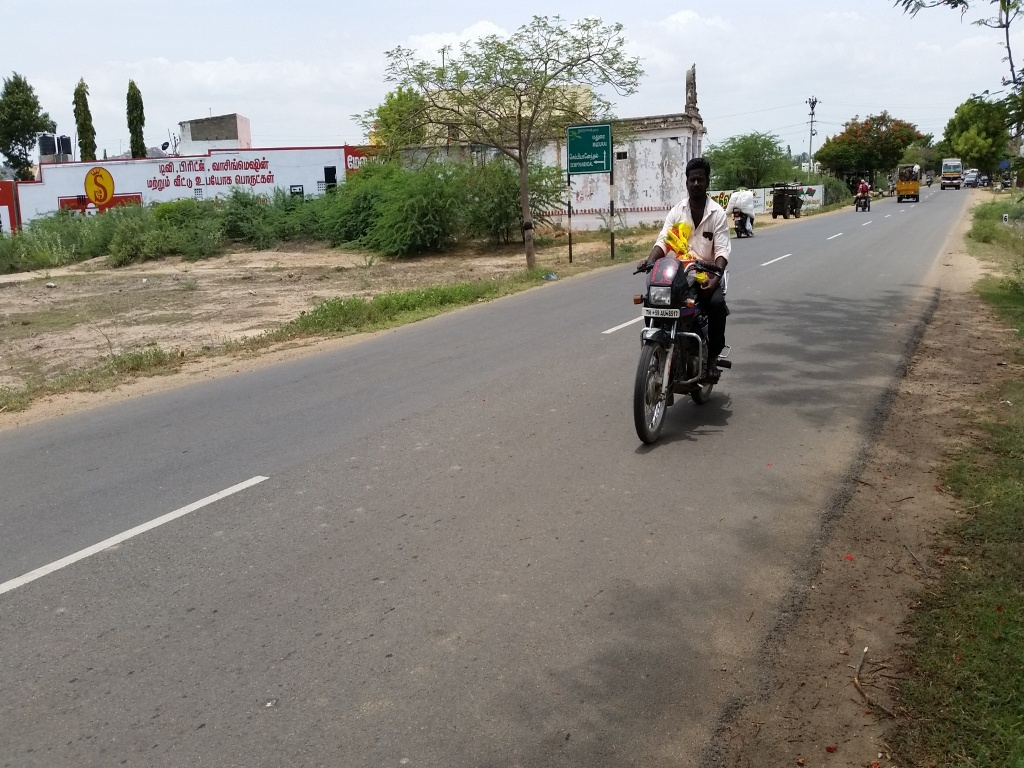biker: (614, 123, 750, 458)
nohelmet: (673, 146, 725, 227)
